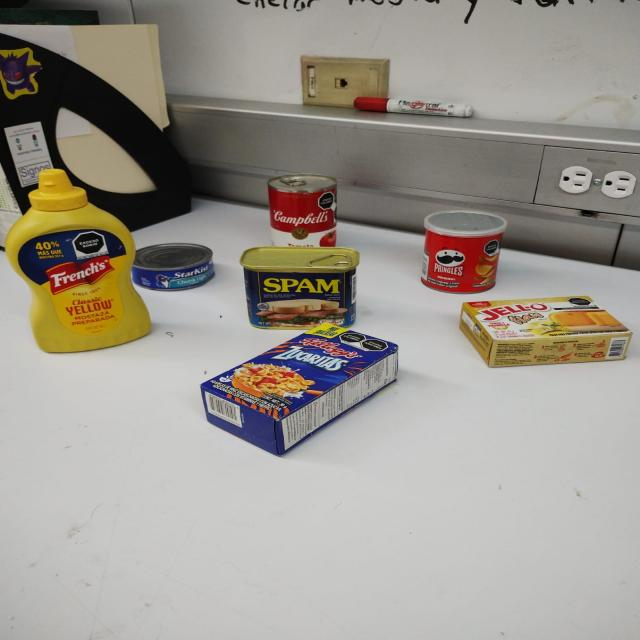can of cream: (266, 173, 339, 248)
can of tuna: (130, 243, 216, 291)
cereal: (198, 325, 400, 455)
chips: (419, 210, 505, 292)
jelly: (457, 294, 625, 366)
mustard: (6, 171, 151, 355)
spam: (240, 248, 362, 328)
